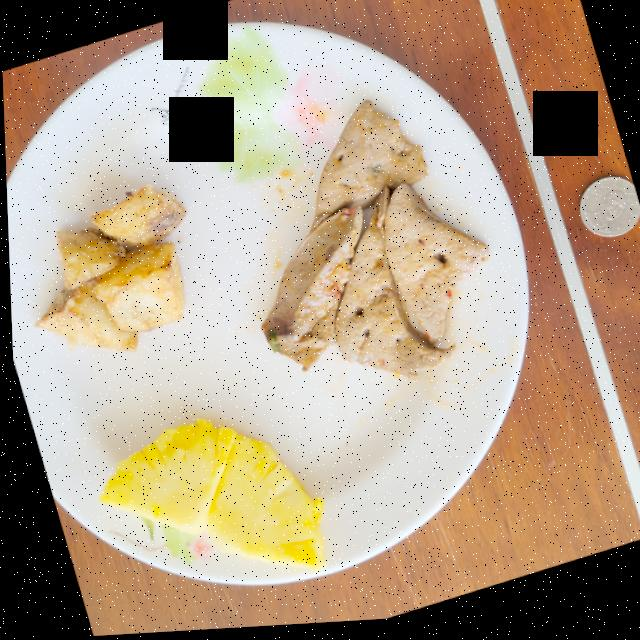coin: (577, 183, 639, 243)
fried potato: (32, 185, 184, 352)
pig liver: (258, 104, 485, 383)
pineapple: (95, 420, 318, 573)
